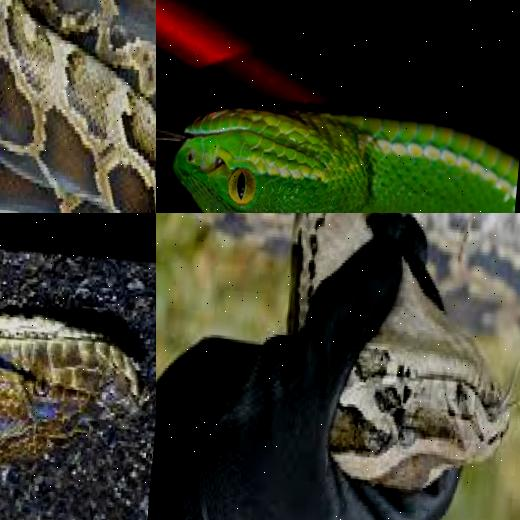3: (0, 253, 145, 520)
4: (160, 100, 520, 213)
snake: (253, 213, 520, 520), (0, 0, 156, 213)
